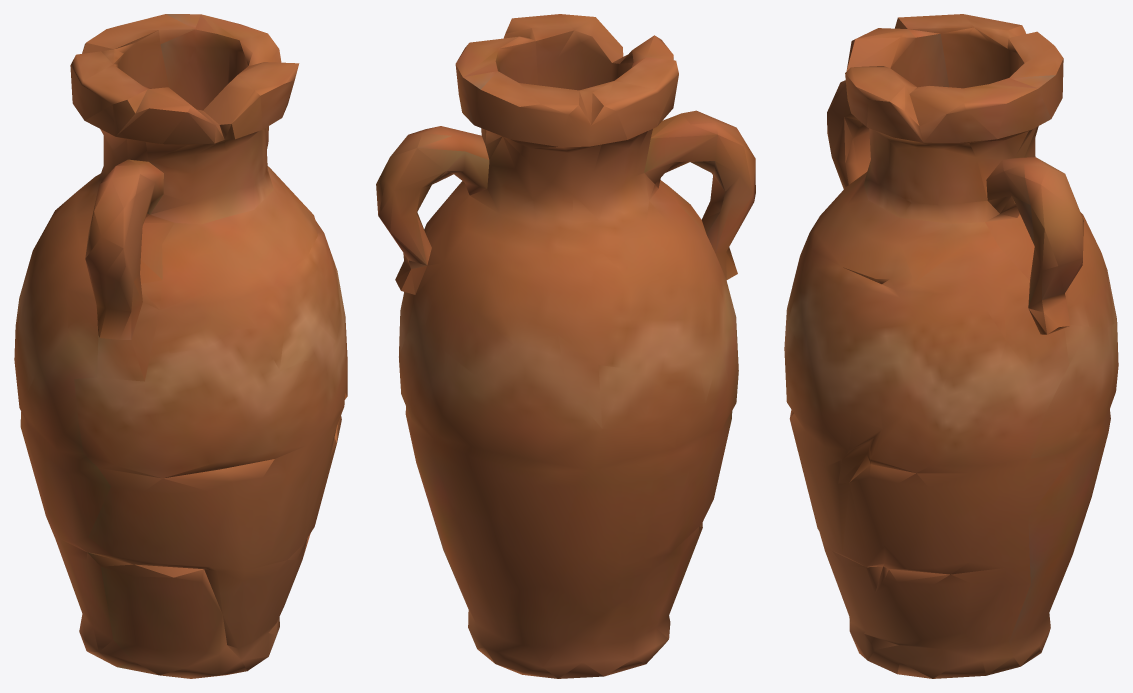
Rendered from jarron_alto.glb.
The picture shows the model from 3 angles, left to right: view 1: azimuth 30°, elevation 25°; view 2: azimuth 150°, elevation 25°; view 3: azimuth 270°, elevation 25°; orthographic projection.
Visible parts, largest first — view 1: jarron_alto_malla; view 2: jarron_alto_malla; view 3: jarron_alto_malla.
Boxes of the visible parts, x1,y1,x2,y2 form: jarron_alto_malla: (14,14,347,678); jarron_alto_malla: (376,14,755,678); jarron_alto_malla: (784,14,1118,678).
Bounding box in the file's own units: 0.1182 × 0.2275 × 0.1166.
Materials: 1 (1 with a texture image).
